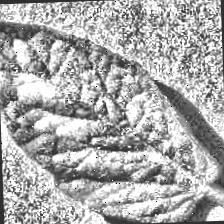leaf mold: (0, 0, 204, 224)
